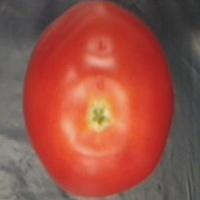unripe: (21, 2, 179, 200)
